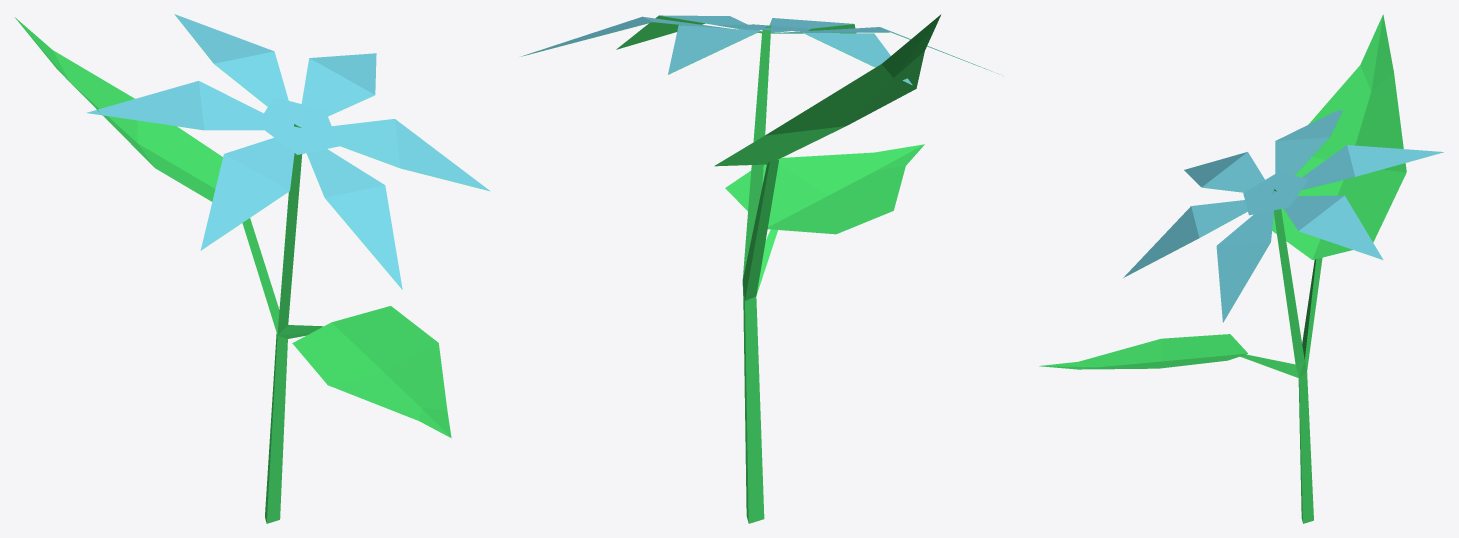
Rendered from lightblueflower.fbx.
3 views of the same model, side by side, from view 1: azimuth 30°, elevation 25°; view 2: azimuth 150°, elevation 25°; view 3: azimuth 270°, elevation 25° (orthographic). The views are drawn at different scales.
Parts seen in each view (by area): view 1: lightblueflowerleaf, lightblueflower; view 2: lightblueflower, lightblueflowerleaf; view 3: lightblueflower, lightblueflowerleaf.
Part boxes in pixels (box(x1,y1,x2,y2)): lightblueflowerleaf: box(86, 14, 490, 289); lightblueflower: box(14, 15, 489, 523); lightblueflower: box(522, 14, 991, 523); lightblueflowerleaf: box(523, 15, 990, 84); lightblueflower: box(1039, 14, 1443, 523); lightblueflowerleaf: box(1123, 110, 1443, 322).
Size of the model in its own units: 0.4048 by 0.5319 by 0.4618.
